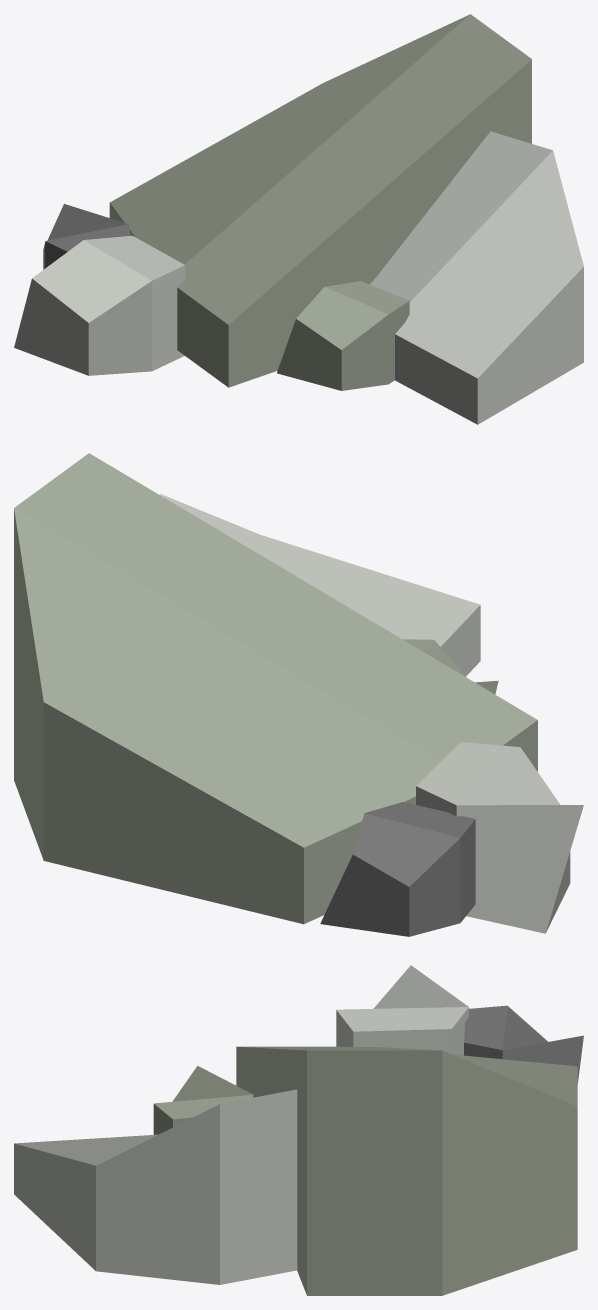
The model's file is rock-type5-01-green.glb.
The picture shows the model from 3 angles, top to bottom: view 1: azimuth 30°, elevation 25°; view 2: azimuth 150°, elevation 25°; view 3: azimuth 270°, elevation 25°; orthographic projection. The views are drawn at different scales.
Visible parts, largest first — view 1: Rock_Type5_01_mesh; view 2: Rock_Type5_01_mesh; view 3: Rock_Type5_01_mesh.
Boxes of the visible parts, bbox=[...] form: Rock_Type5_01_mesh: bbox=[14, 14, 583, 424]; Rock_Type5_01_mesh: bbox=[14, 453, 583, 936]; Rock_Type5_01_mesh: bbox=[14, 965, 583, 1295].
Bounding box in the file's own units: 1.94 × 0.9523 × 1.92.
1 material, 1 textured.
